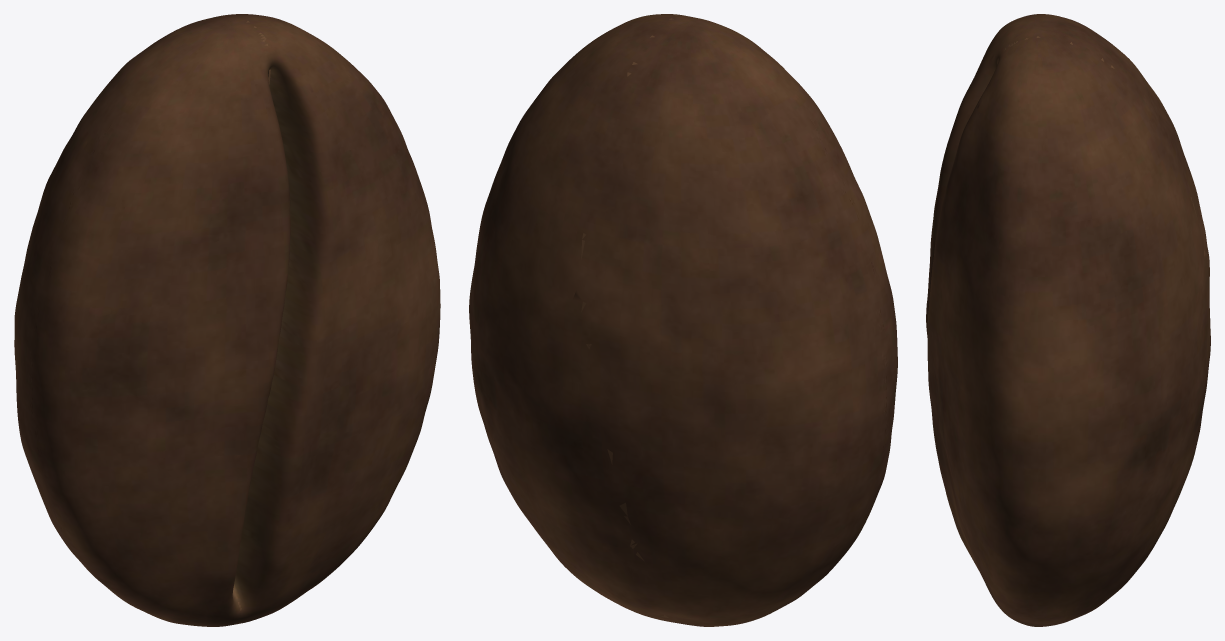
Rendered from coffee-bean.glb.
3 renders of one model, left to right at view 1: azimuth 30°, elevation 25°; view 2: azimuth 150°, elevation 25°; view 3: azimuth 270°, elevation 25°, orthographic. The views are drawn at different scales.
Parts seen in each view (by area): view 1: BeanLeft, BeanRight; view 2: BeanLeft, BeanRight; view 3: BeanRight, BeanLeft.
Part boxes in pixels (box(x1,y1,x2,y2)): BeanLeft: box(14, 14, 290, 626); BeanRight: box(231, 14, 440, 624); BeanLeft: box(581, 15, 897, 626); BeanRight: box(469, 14, 679, 621); BeanRight: box(927, 36, 1210, 626); BeanLeft: box(926, 14, 1210, 334).
Bounding box in the file's own units: 0.7039 × 1 × 0.4444.
Materials: 2 (1 with a texture image).
